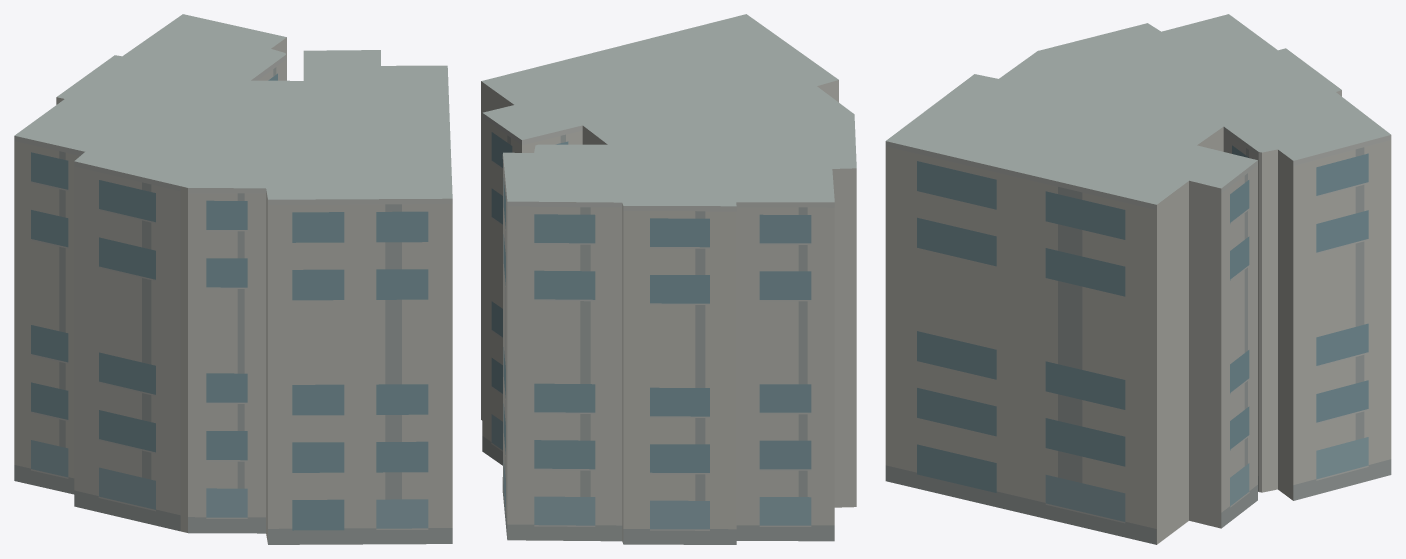
The model's file is survey-upis-33014899.glb.
3 views of the same model, side by side, from view 1: azimuth 30°, elevation 25°; view 2: azimuth 150°, elevation 25°; view 3: azimuth 270°, elevation 25° (orthographic).
Visible parts, largest first — view 1: survey-upis-33014899.tmp; view 2: survey-upis-33014899.tmp; view 3: survey-upis-33014899.tmp.
Part boxes in pixels (box(x1,y1,x2,y2)): survey-upis-33014899.tmp: box(14, 14, 452, 544); survey-upis-33014899.tmp: box(481, 14, 856, 544); survey-upis-33014899.tmp: box(885, 14, 1391, 544).
Bounding box in the file's own units: 19.5 × 16.2 × 21.85.
